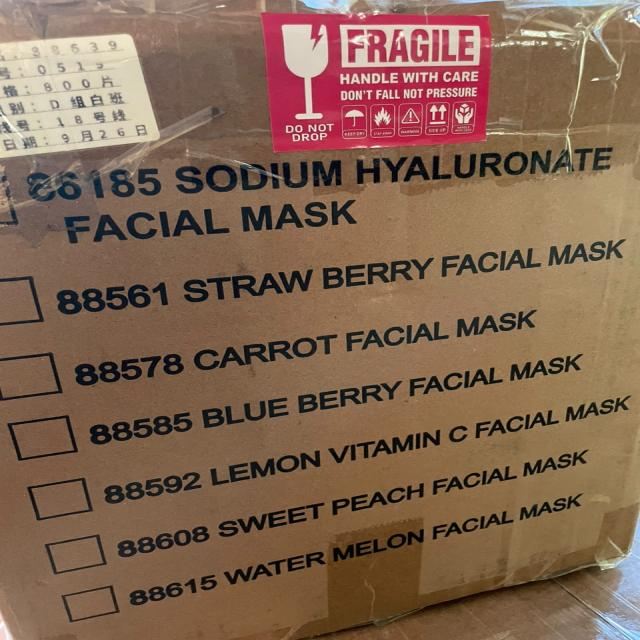carton_box: (0, 0, 640, 640)
fragile_label: (254, 0, 506, 159)
